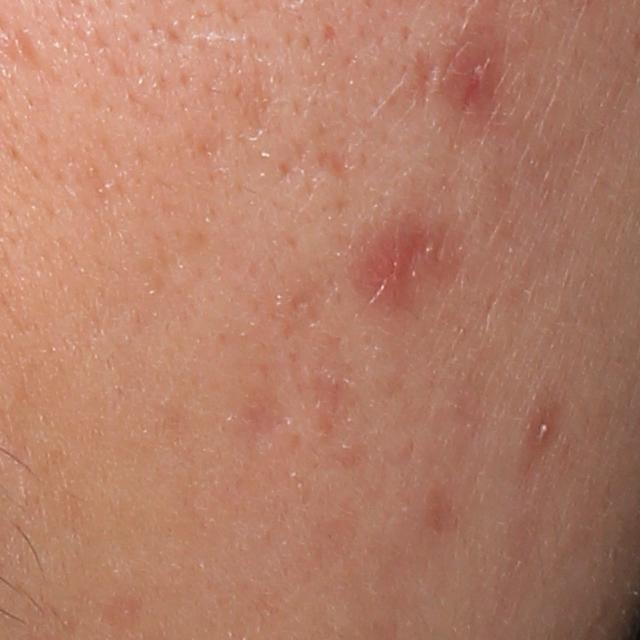atrophic_scar: (239, 385, 283, 439), (16, 24, 48, 71), (413, 51, 437, 112), (317, 149, 352, 179)
papule: (445, 33, 511, 115), (360, 230, 425, 307), (523, 401, 559, 455)
